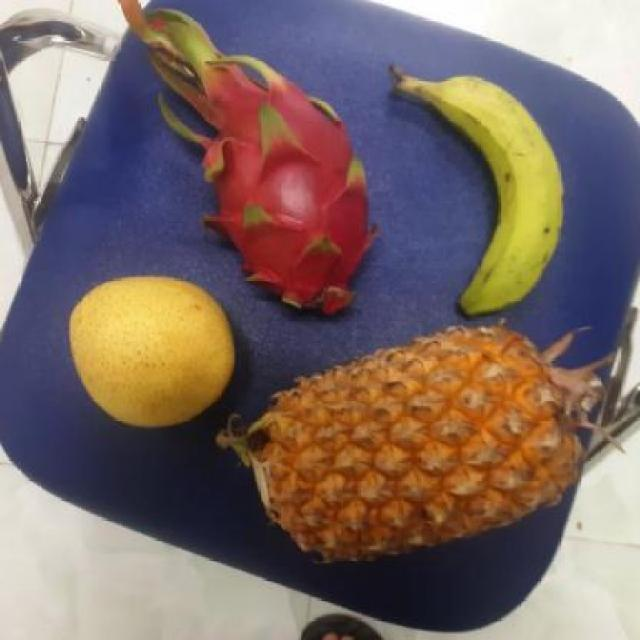banana: (403, 75, 566, 317)
dragon fruit: (183, 70, 383, 318)
pear: (67, 279, 245, 426)
pineapple: (241, 326, 592, 557)
